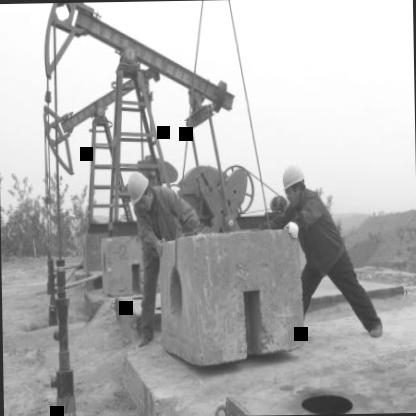helmet: (280, 158, 309, 208), (119, 168, 154, 208)
